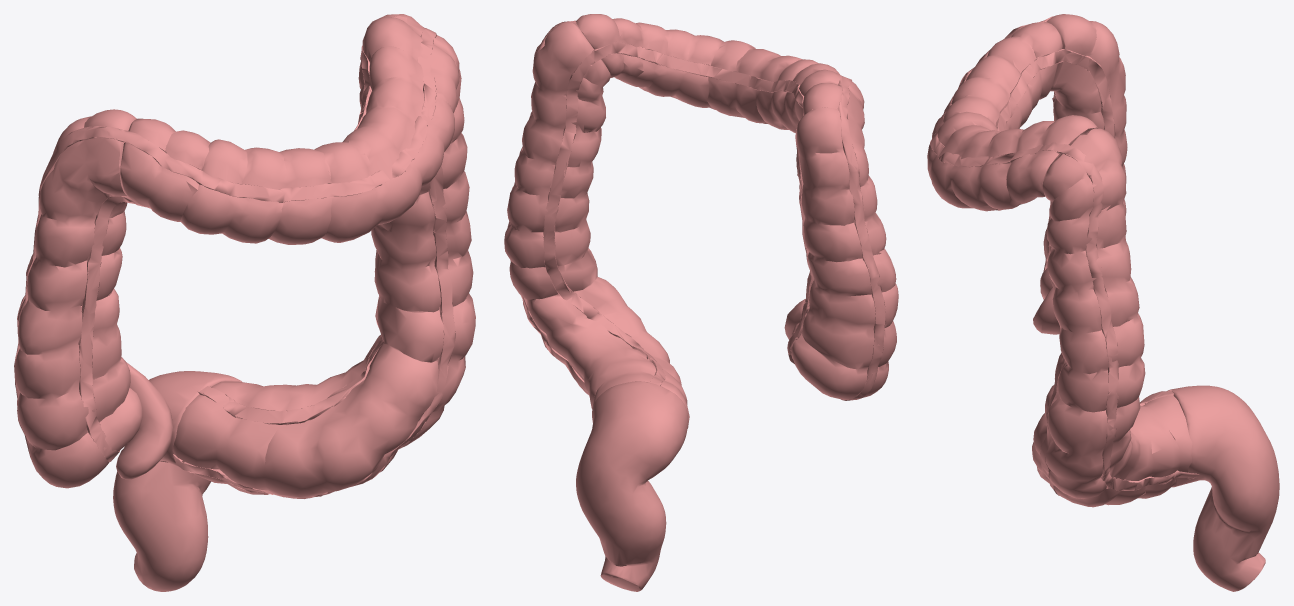
Rendered from large-intestine.glb.
3 views of the same model, side by side, from view 1: azimuth 30°, elevation 25°; view 2: azimuth 150°, elevation 25°; view 3: azimuth 270°, elevation 25° (orthographic). The views are drawn at different scales.
Visible parts, largest first — view 1: FJ2567, FJ2572, FJ2566, FJ2571, FJ2568, FJ2570, FJ2599, FJ2569; view 2: FJ2567, FJ2566, FJ2571, FJ2572, FJ2569, FJ2570; view 3: FJ2567, FJ2572, FJ2571, FJ2566, FJ2570, FJ2569, FJ2568, FJ2599.
Part boxes in pixels (box(x1,y1,x2,y2)): FJ2567: box(172, 14, 475, 498); FJ2572: box(120, 16, 459, 244); FJ2566: box(14, 109, 142, 488); FJ2571: box(113, 371, 241, 591); FJ2568: box(78, 166, 455, 498); FJ2570: box(14, 28, 450, 458); FJ2599: box(116, 362, 172, 479); FJ2569: box(197, 45, 383, 425); FJ2567: box(504, 21, 689, 428); FJ2566: box(791, 83, 898, 399); FJ2571: box(576, 381, 687, 591); FJ2572: box(576, 14, 864, 132); FJ2569: box(542, 41, 813, 385); FJ2570: box(507, 20, 885, 400); FJ2567: box(1032, 128, 1192, 507); FJ2572: box(927, 22, 1098, 211); FJ2571: box(1167, 385, 1279, 591); FJ2566: box(1034, 14, 1127, 299); FJ2570: box(930, 16, 1198, 491); FJ2569: box(995, 49, 1173, 410); FJ2568: box(995, 92, 1065, 495); FJ2599: box(1033, 287, 1060, 334).
Bounding box in the file's own units: 2.15 × 2.7 × 1.63.
